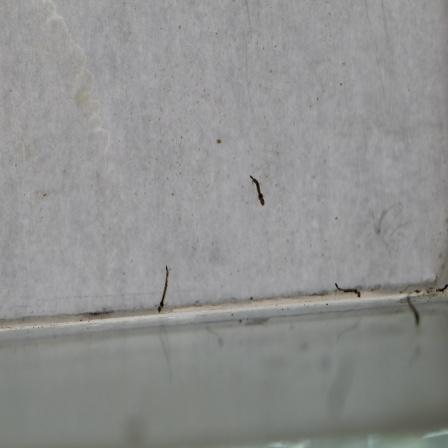Jentik-Nyamuk: (154, 264, 176, 315), (246, 171, 269, 211), (332, 277, 363, 301)
